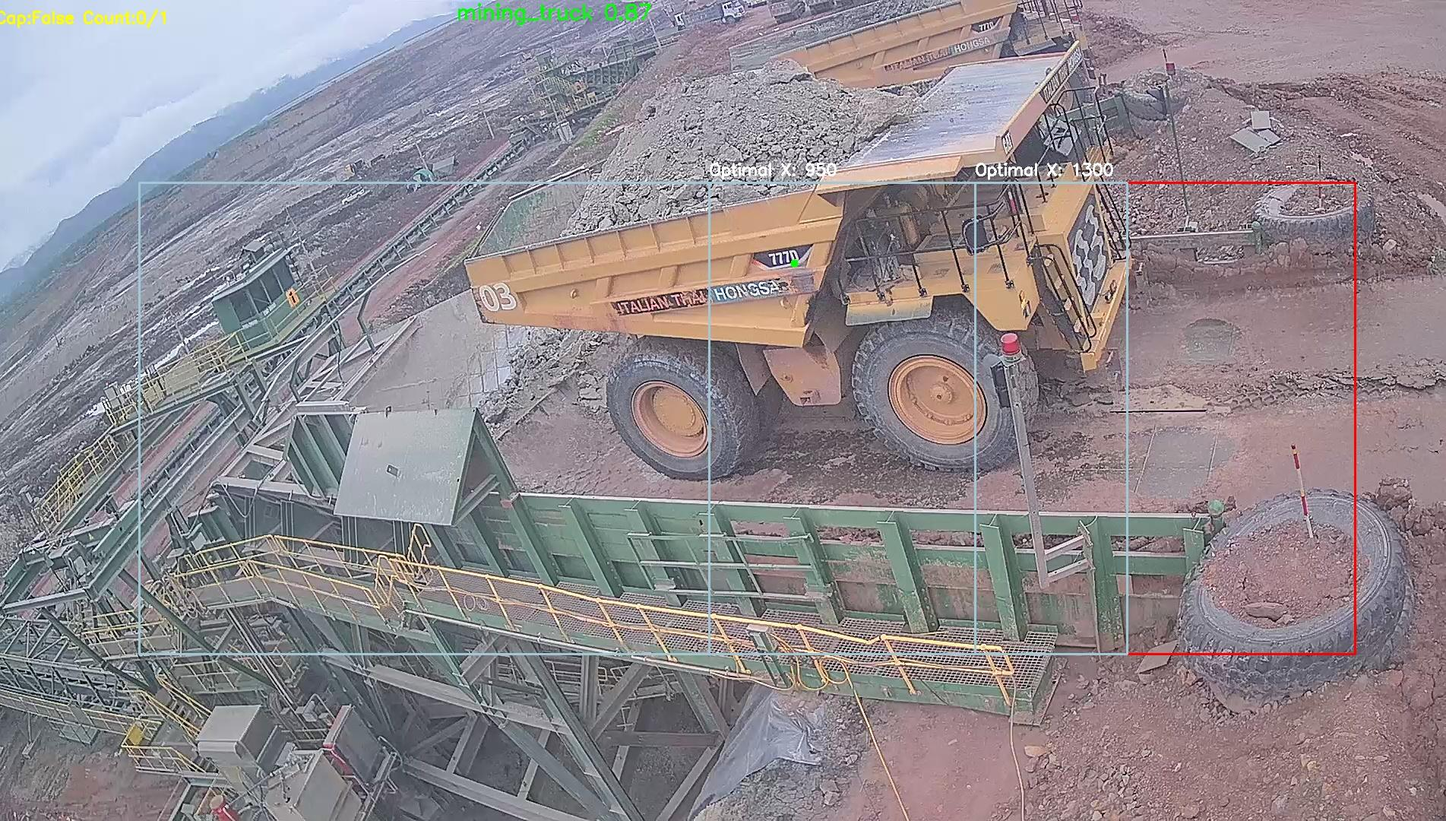company: (598, 274, 788, 318)
full_load: (601, 66, 854, 214)
mining_truck: (452, 41, 1156, 473)
tail_number: (469, 267, 524, 321)
truck_size: (750, 235, 818, 273)
